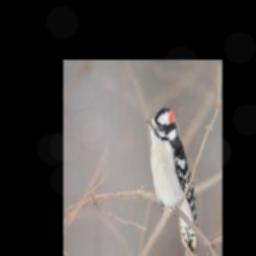Woodpecker: (146, 107, 198, 254)
